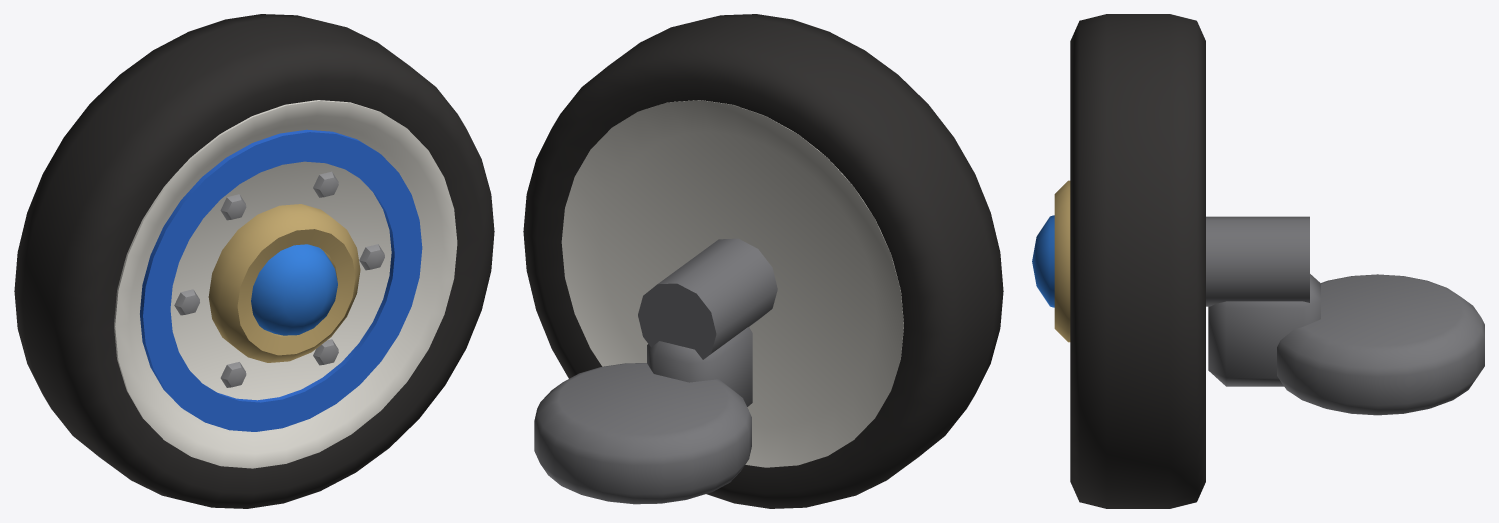
Rendered from Kit_Foot_ProWheel.glb.
The picture shows the model from 3 angles, left to right: view 1: azimuth 30°, elevation 25°; view 2: azimuth 150°, elevation 25°; view 3: azimuth 270°, elevation 25°; orthographic projection.
Visible parts, largest first — view 1: Kit_Foot_ProWheel; view 2: Kit_Foot_ProWheel; view 3: Kit_Foot_ProWheel.
Part boxes in pixels (x1,y1,x2,y2): Kit_Foot_ProWheel: (14, 14, 494, 508); Kit_Foot_ProWheel: (523, 14, 1003, 508); Kit_Foot_ProWheel: (1032, 14, 1484, 508).
Bounding box in the file's own units: 0.22 × 0.22 × 0.2005.
